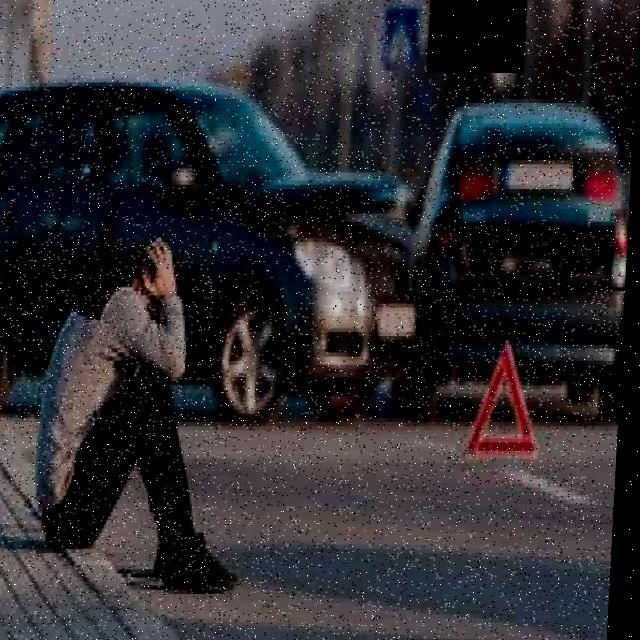multiple_accident: (0, 45, 640, 415)
